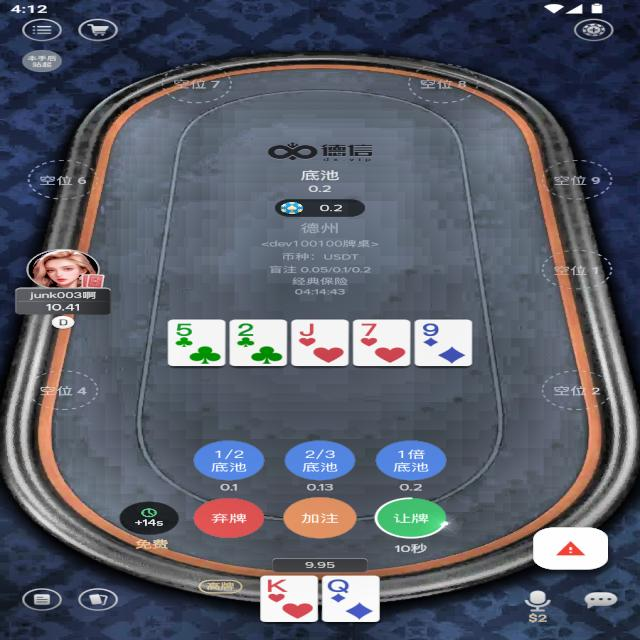2m: (234, 320, 257, 338)
5m: (172, 320, 196, 338)
7h: (358, 321, 380, 337)
9f: (421, 322, 442, 337)
Jh: (293, 320, 324, 338)
Kh: (263, 578, 291, 594)
Qf: (326, 577, 352, 594)
